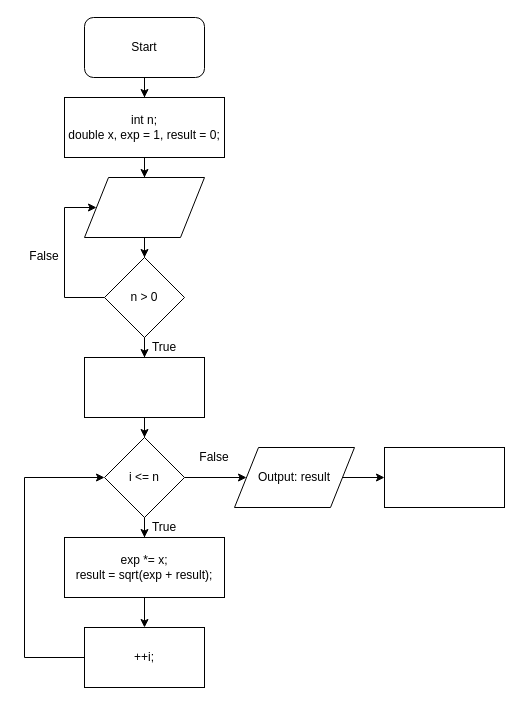
Some shapes in this 522 by 705 pixel diagram are drawn without their labels. The shapes that lost their labels are listed below. From the top down, each one's centre as x and y in pixels, then its label:
At (144,207): "Input: x, n;".
At (144,387): "int i = 1;".
At (444,477): "End".
